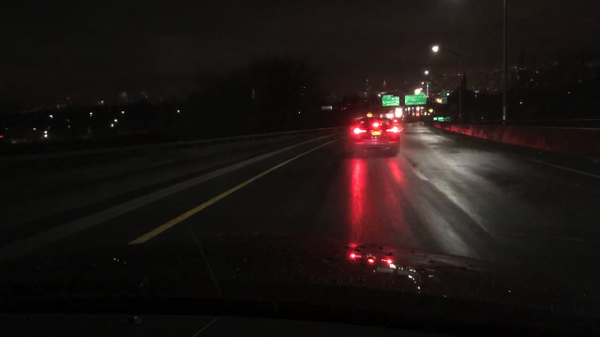car: (349, 117, 399, 156), (0, 132, 45, 144), (393, 120, 403, 132)
traffic sign: (382, 95, 400, 106), (405, 96, 426, 105), (442, 91, 447, 104), (428, 108, 434, 113), (367, 113, 372, 118)
